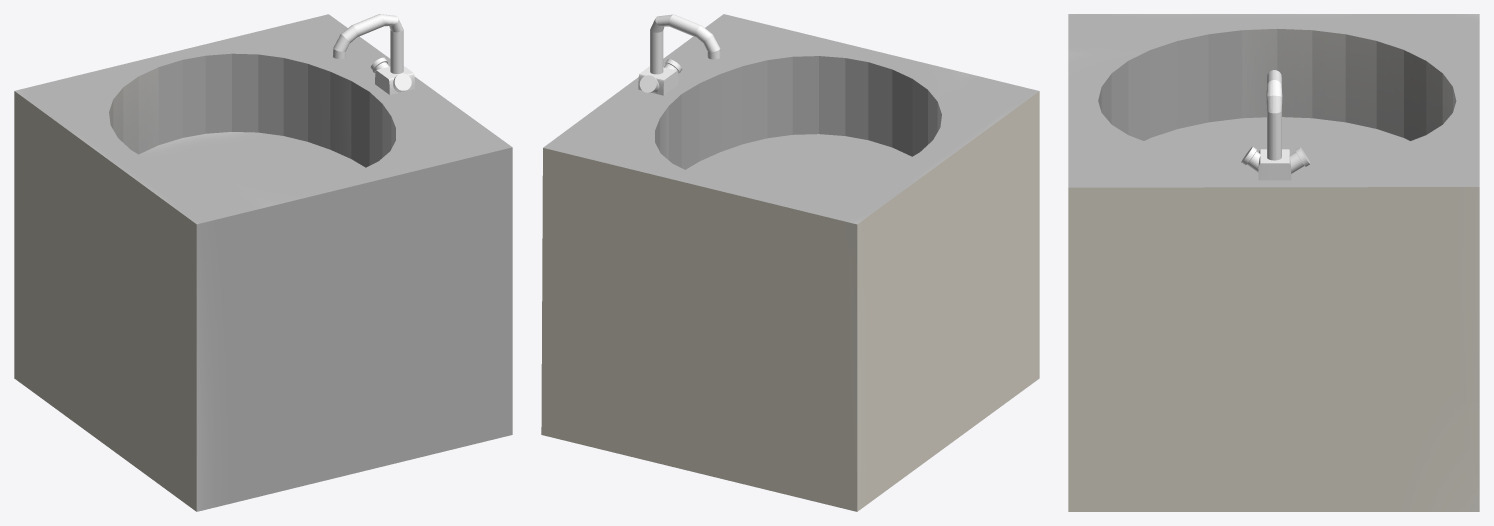
The model's file is lavaplatos.fbx.
The picture shows the model from 3 angles, left to right: view 1: azimuth 30°, elevation 25°; view 2: azimuth 150°, elevation 25°; view 3: azimuth 270°, elevation 25°; orthographic projection. The views are drawn at different scales.
Parts seen in each view (by area): view 1: LavaPlatos; view 2: LavaPlatos; view 3: LavaPlatos.
Part boxes in pixels (x1,y1,x2,y2): LavaPlatos: [14, 14, 512, 511]; LavaPlatos: [541, 14, 1039, 511]; LavaPlatos: [1068, 14, 1479, 511].
Bounding box in the file's own units: 200 × 220 × 200.
1 material, 1 textured.
